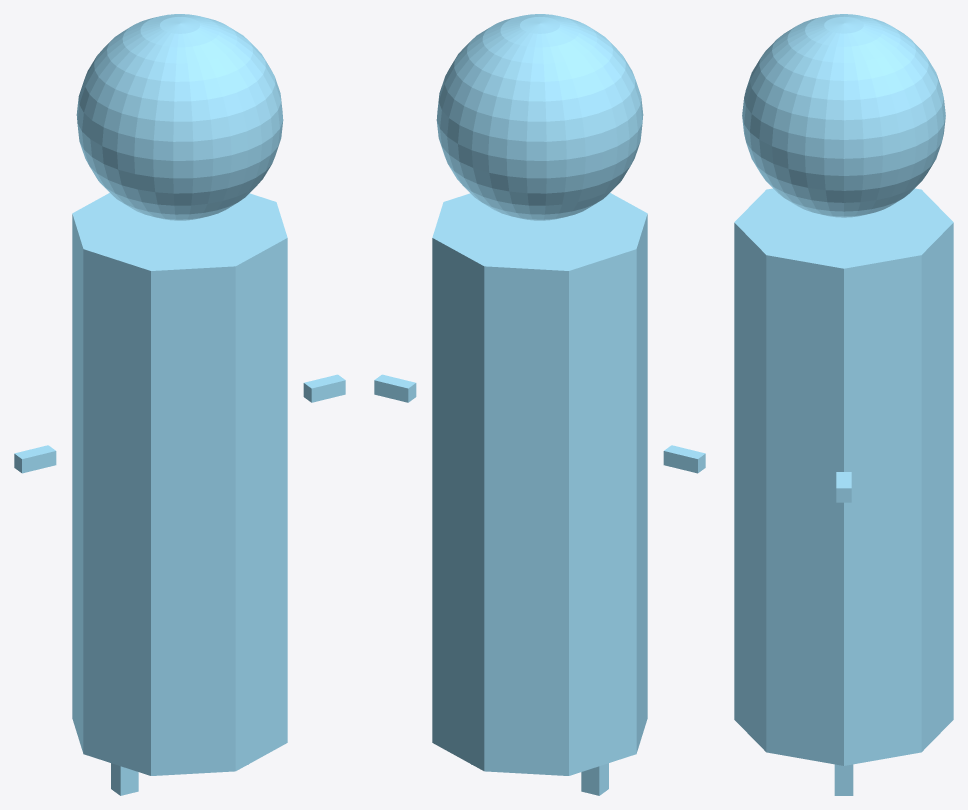
Rendered from player-adventurer-prototype.glb.
The picture shows the model from 3 angles, left to right: view 1: azimuth 30°, elevation 25°; view 2: azimuth 150°, elevation 25°; view 3: azimuth 270°, elevation 25°; orthographic projection.
Visible parts, largest first — view 1: player_adventurer_prototype; view 2: player_adventurer_prototype; view 3: player_adventurer_prototype.
Part boxes in pixels (x1,y1,x2,y2): player_adventurer_prototype: (14,14,345,795); player_adventurer_prototype: (374,14,705,795); player_adventurer_prototype: (734,14,953,795).
Bounding box in the file's own units: 0.939 × 2.09 × 0.56.
